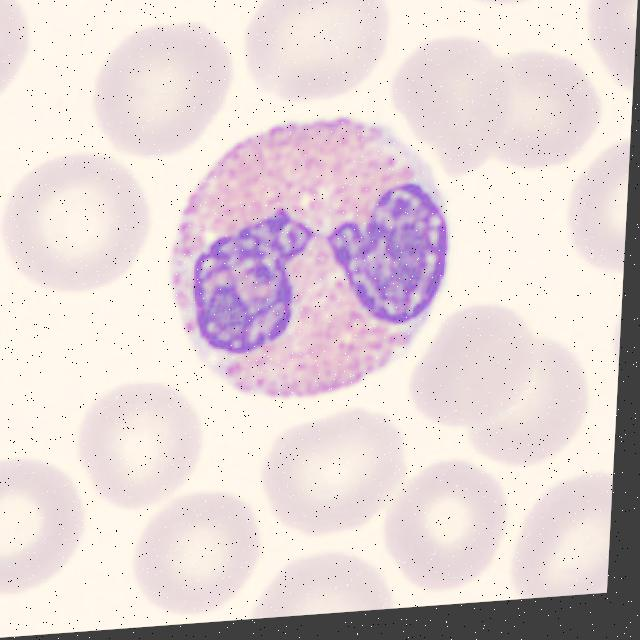eosinophil: (168, 109, 457, 421)
rbc: (0, 150, 155, 302), (90, 22, 243, 166), (467, 329, 597, 488), (269, 405, 419, 537), (131, 483, 271, 616), (385, 455, 513, 600), (242, 0, 402, 116), (477, 46, 612, 183), (80, 374, 204, 520), (492, 456, 613, 601), (0, 435, 90, 624), (394, 39, 512, 181), (411, 308, 543, 425), (239, 547, 402, 620), (550, 142, 630, 290), (575, 0, 640, 104), (0, 0, 36, 118), (436, 0, 584, 18)
